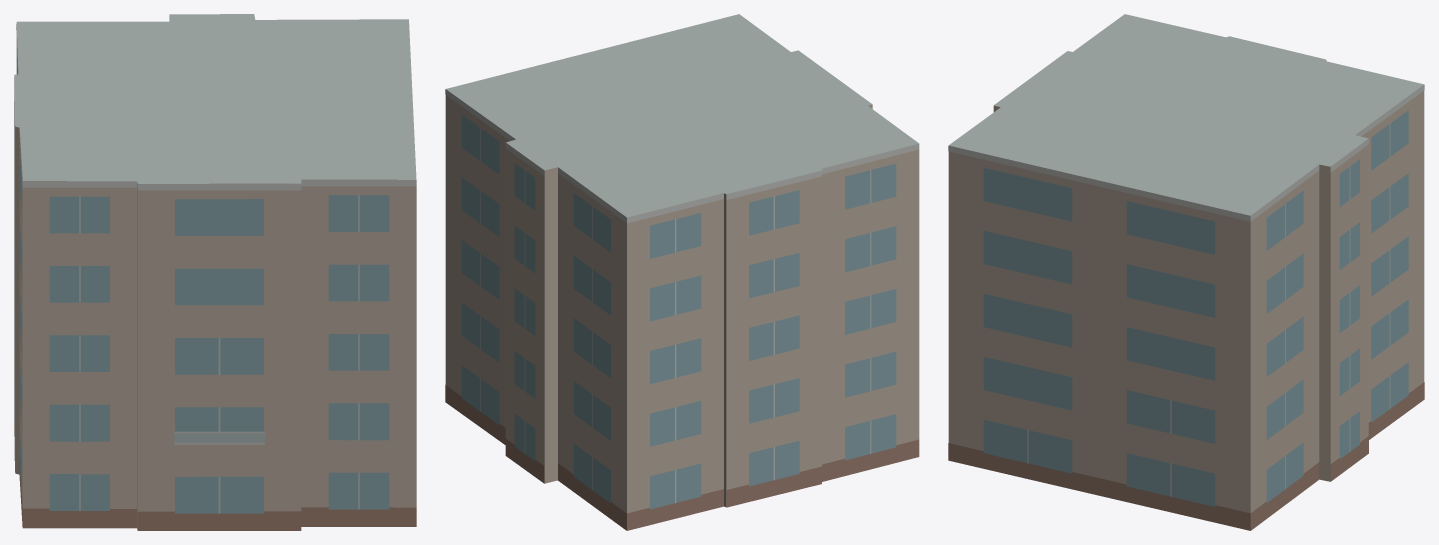
Rendered from survey-upis-32883263.glb.
3 renders of one model, left to right at view 1: azimuth 30°, elevation 25°; view 2: azimuth 150°, elevation 25°; view 3: azimuth 270°, elevation 25°, orthographic. The views are drawn at different scales.
Visible parts, largest first — view 1: survey-upis-32883263.tmp; view 2: survey-upis-32883263.tmp; view 3: survey-upis-32883263.tmp.
Boxes of the visible parts, left/top/right/bottom form: survey-upis-32883263.tmp: left=14, top=14, right=416, bottom=530; survey-upis-32883263.tmp: left=445, top=14, right=919, bottom=530; survey-upis-32883263.tmp: left=948, top=14, right=1424, bottom=530.
Size of the model in its own units: 18 by 13.1 by 17.95.
